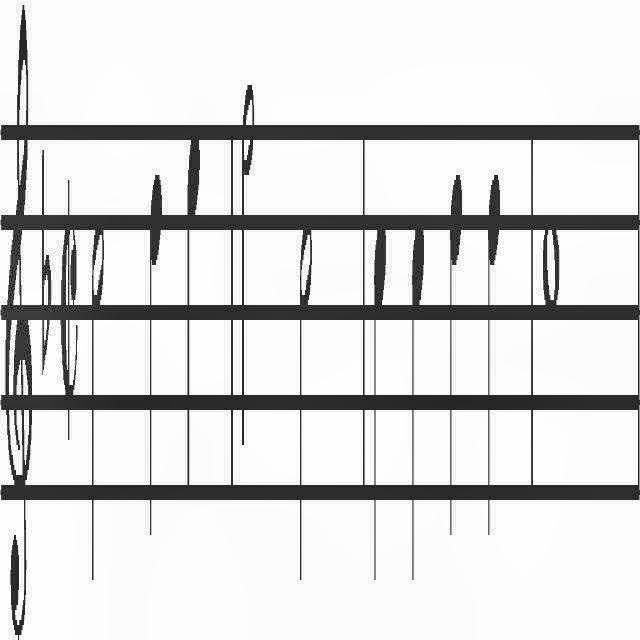Bass-clef: (4, 0, 34, 640)
Bemol: (40, 142, 51, 382)
Full-note: (542, 208, 560, 320)
Half-note: (298, 215, 314, 598), (241, 73, 255, 464), (90, 214, 104, 594)
Quarter-note: (409, 215, 426, 598), (186, 114, 202, 512), (148, 150, 164, 542), (448, 168, 464, 544), (372, 217, 388, 591), (487, 162, 501, 550)
